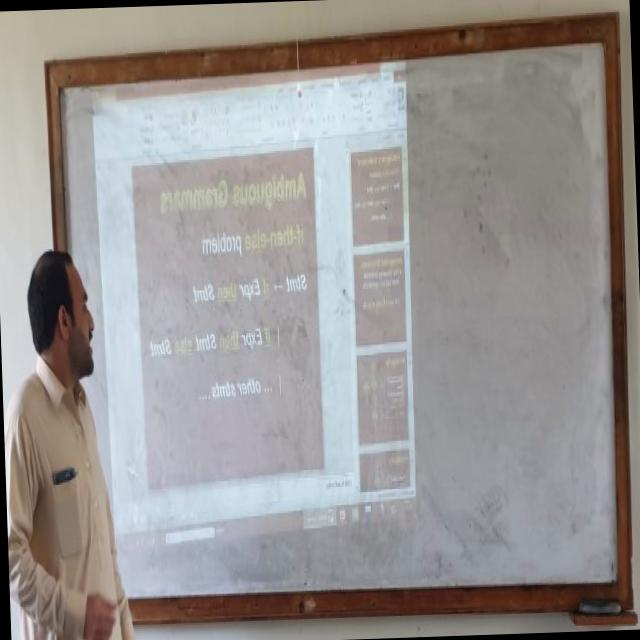Instructor: (5, 231, 126, 640)
Slide: (91, 48, 417, 576)
White-board: (53, 21, 627, 606)
